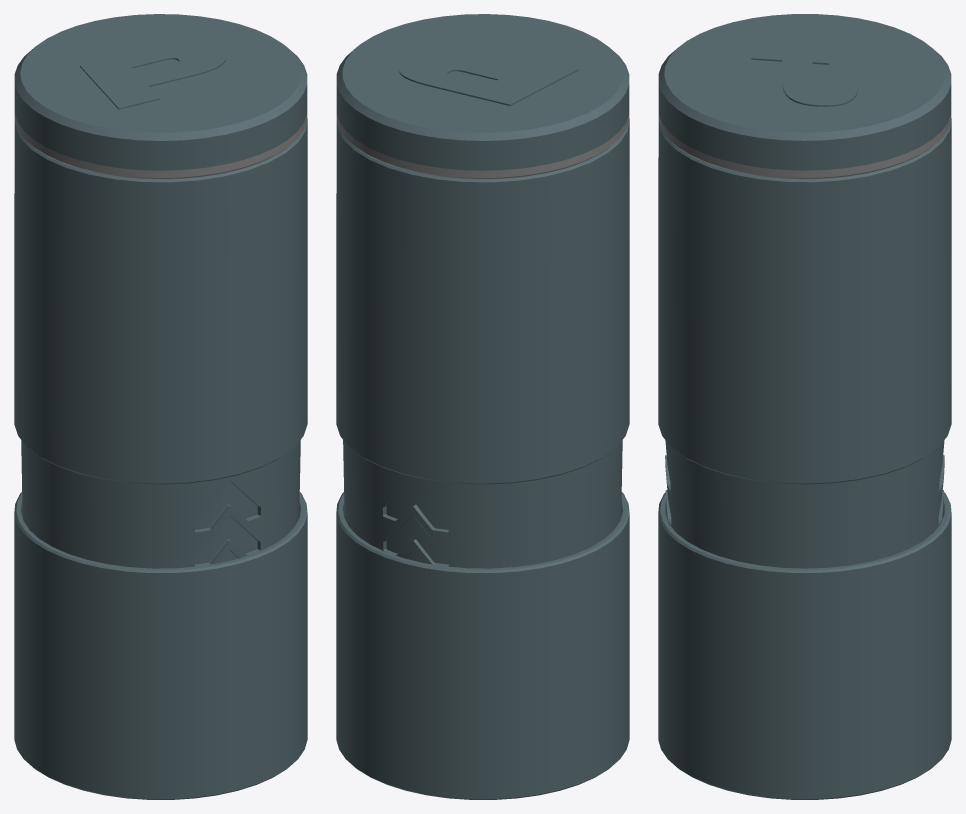
The model's file is MSTICK.obj.
3 views of the same model, side by side, from view 1: azimuth 30°, elevation 25°; view 2: azimuth 150°, elevation 25°; view 3: azimuth 270°, elevation 25° (orthographic).
Parts seen in each view (by area): view 1: Corpo, Botão, Exterior_tampa, Interior_tampa; view 2: Corpo, Botão, Exterior_tampa, Interior_tampa; view 3: Corpo, Botão, Exterior_tampa, Interior_tampa.
Part boxes in pixels (box(x1,y1,x2,y2)): Corpo: box(14, 118, 307, 568); Botão: box(14, 492, 307, 799); Exterior_tampa: box(14, 14, 307, 170); Interior_tampa: box(14, 114, 307, 178); Corpo: box(336, 118, 629, 568); Botão: box(336, 492, 629, 799); Exterior_tampa: box(336, 14, 629, 170); Interior_tampa: box(336, 114, 629, 178); Corpo: box(658, 118, 951, 568); Botão: box(658, 492, 951, 799); Exterior_tampa: box(658, 14, 951, 170); Interior_tampa: box(658, 114, 951, 178).
Bounding box in the file's own units: 4.3 × 10.78 × 4.3.
